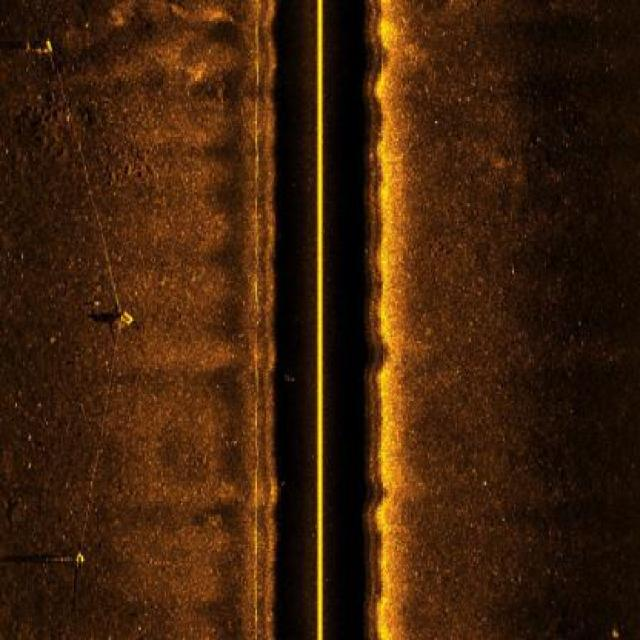mine: (106, 313, 139, 336), (55, 547, 90, 568), (28, 38, 58, 54)
